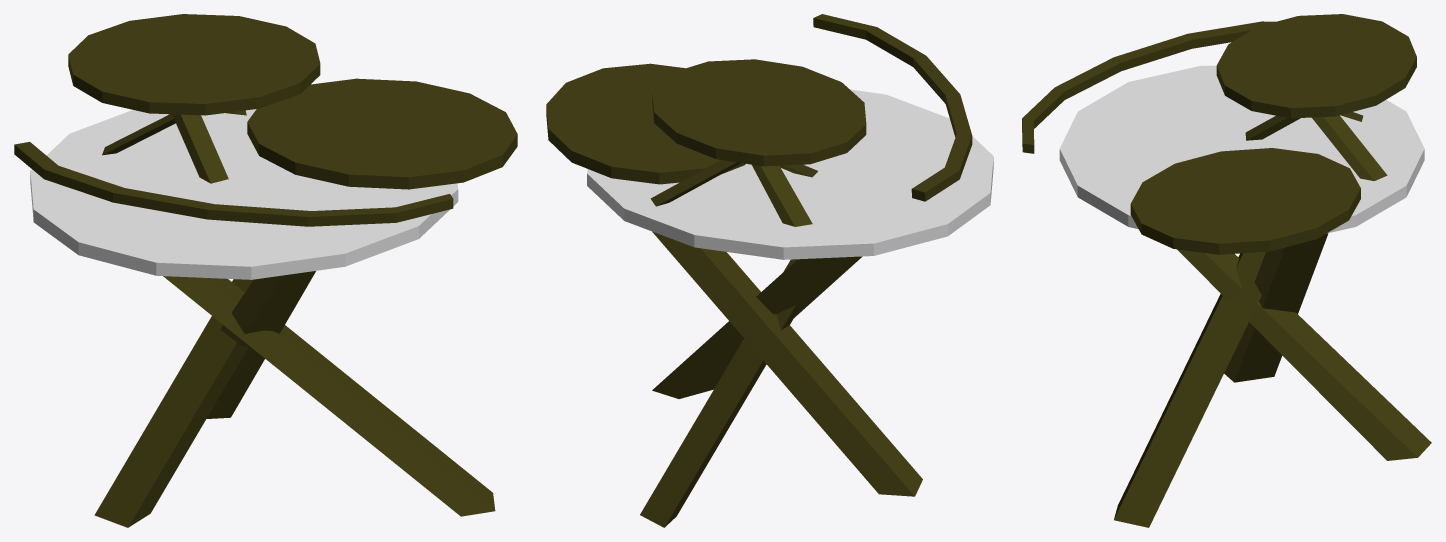
File: perch.glb
3 renders of one model, left to right at view 1: azimuth 30°, elevation 25°; view 2: azimuth 150°, elevation 25°; view 3: azimuth 270°, elevation 25°, orthographic. The views are drawn at different scales.
Parts seen in each view (by area): view 1: Cylinder.004, Cylinder.001, Cylinder.005, Cylinder.002, Cylinder.006, Cylinder.003; view 2: Cylinder.004, Cylinder.001, Cylinder.002, Cylinder.005, Cylinder.006, Cylinder.003; view 3: Cylinder.001, Cylinder.004, Cylinder.005, Cylinder.002, Cylinder.006, Cylinder.003.
Boxes of the visible parts, x1,y1,x2,y2 form: Cylinder.004: [30, 109, 458, 279]; Cylinder.001: [94, 271, 495, 527]; Cylinder.005: [247, 78, 517, 189]; Cylinder.002: [68, 14, 320, 115]; Cylinder.006: [14, 142, 453, 226]; Cylinder.003: [102, 110, 246, 183]; Cylinder.004: [587, 89, 993, 259]; Cylinder.001: [640, 231, 922, 527]; Cylinder.002: [652, 59, 866, 166]; Cylinder.005: [546, 63, 745, 184]; Cylinder.006: [813, 14, 972, 201]; Cylinder.003: [650, 160, 817, 226]; Cylinder.001: [1114, 233, 1431, 527]; Cylinder.004: [1059, 65, 1424, 233]; Cylinder.005: [1130, 148, 1360, 254]; Cylinder.002: [1216, 14, 1416, 118]; Cylinder.006: [1022, 21, 1275, 153]; Cylinder.003: [1245, 112, 1387, 180].
Bounding box in the file's own units: 21.99 × 19.95 × 19.71.
